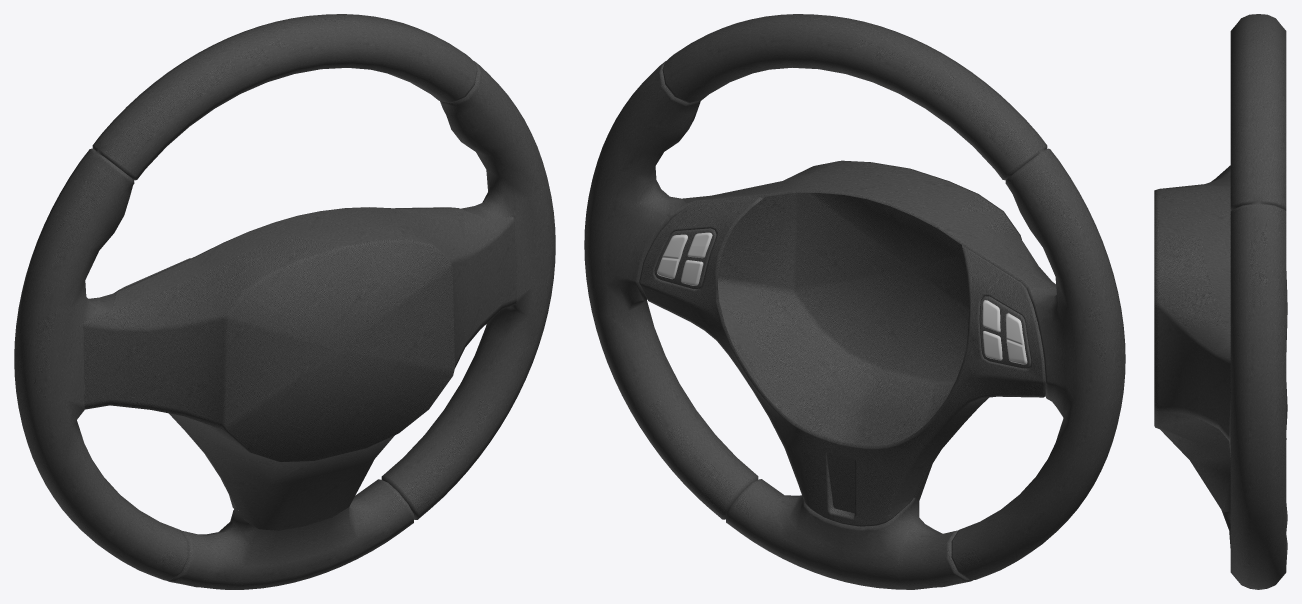
The model's file is SteeringWheel.fbx.
The picture shows the model from 3 angles, left to right: view 1: azimuth 30°, elevation 25°; view 2: azimuth 150°, elevation 25°; view 3: azimuth 270°, elevation 25°; orthographic projection. The views are drawn at different scales.
Parts seen in each view (by area): view 1: STEERING_WHEEL, STEERING_WHEEL_CENTER; view 2: STEERING_WHEEL, STEERING_WHEEL_CENTER, STEERING_WHEEL_BUTTONS; view 3: STEERING_WHEEL, STEERING_WHEEL_CENTER.
Part boxes in pixels (<box>): STEERING_WHEEL: <box>14,14,555,589</box>; STEERING_WHEEL_CENTER: <box>83,207,516,530</box>; STEERING_WHEEL: <box>584,14,1125,589</box>; STEERING_WHEEL_CENTER: <box>639,160,1056,526</box>; STEERING_WHEEL_BUTTONS: <box>657,232,1027,364</box>; STEERING_WHEEL: <box>1221,14,1287,589</box>; STEERING_WHEEL_CENTER: <box>1154,165,1287,512</box>.
Size of the model in its own units: 0.3697 by 0.3707 by 0.086.
